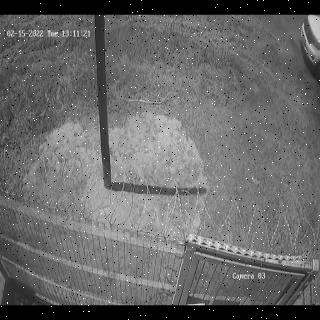car: (300, 14, 320, 65)
